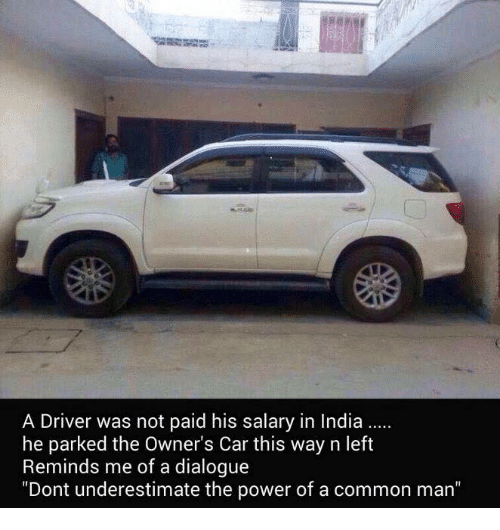car: (16, 133, 471, 319)
